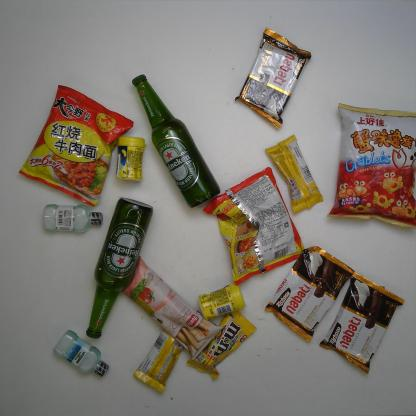Alcohol: (129, 70, 222, 209), (82, 195, 155, 339)
Chocolate: (185, 301, 259, 384), (132, 315, 198, 395), (263, 135, 324, 218)
Dessert: (121, 254, 227, 364), (312, 270, 407, 376), (260, 242, 355, 344), (230, 26, 312, 132)
Gum: (195, 282, 247, 324), (111, 135, 146, 185)
Instant Noodles: (17, 82, 139, 208), (201, 165, 310, 287)
Personal Hygiene: (50, 328, 112, 380), (38, 200, 105, 236)
Puffed Food: (324, 99, 416, 231)
